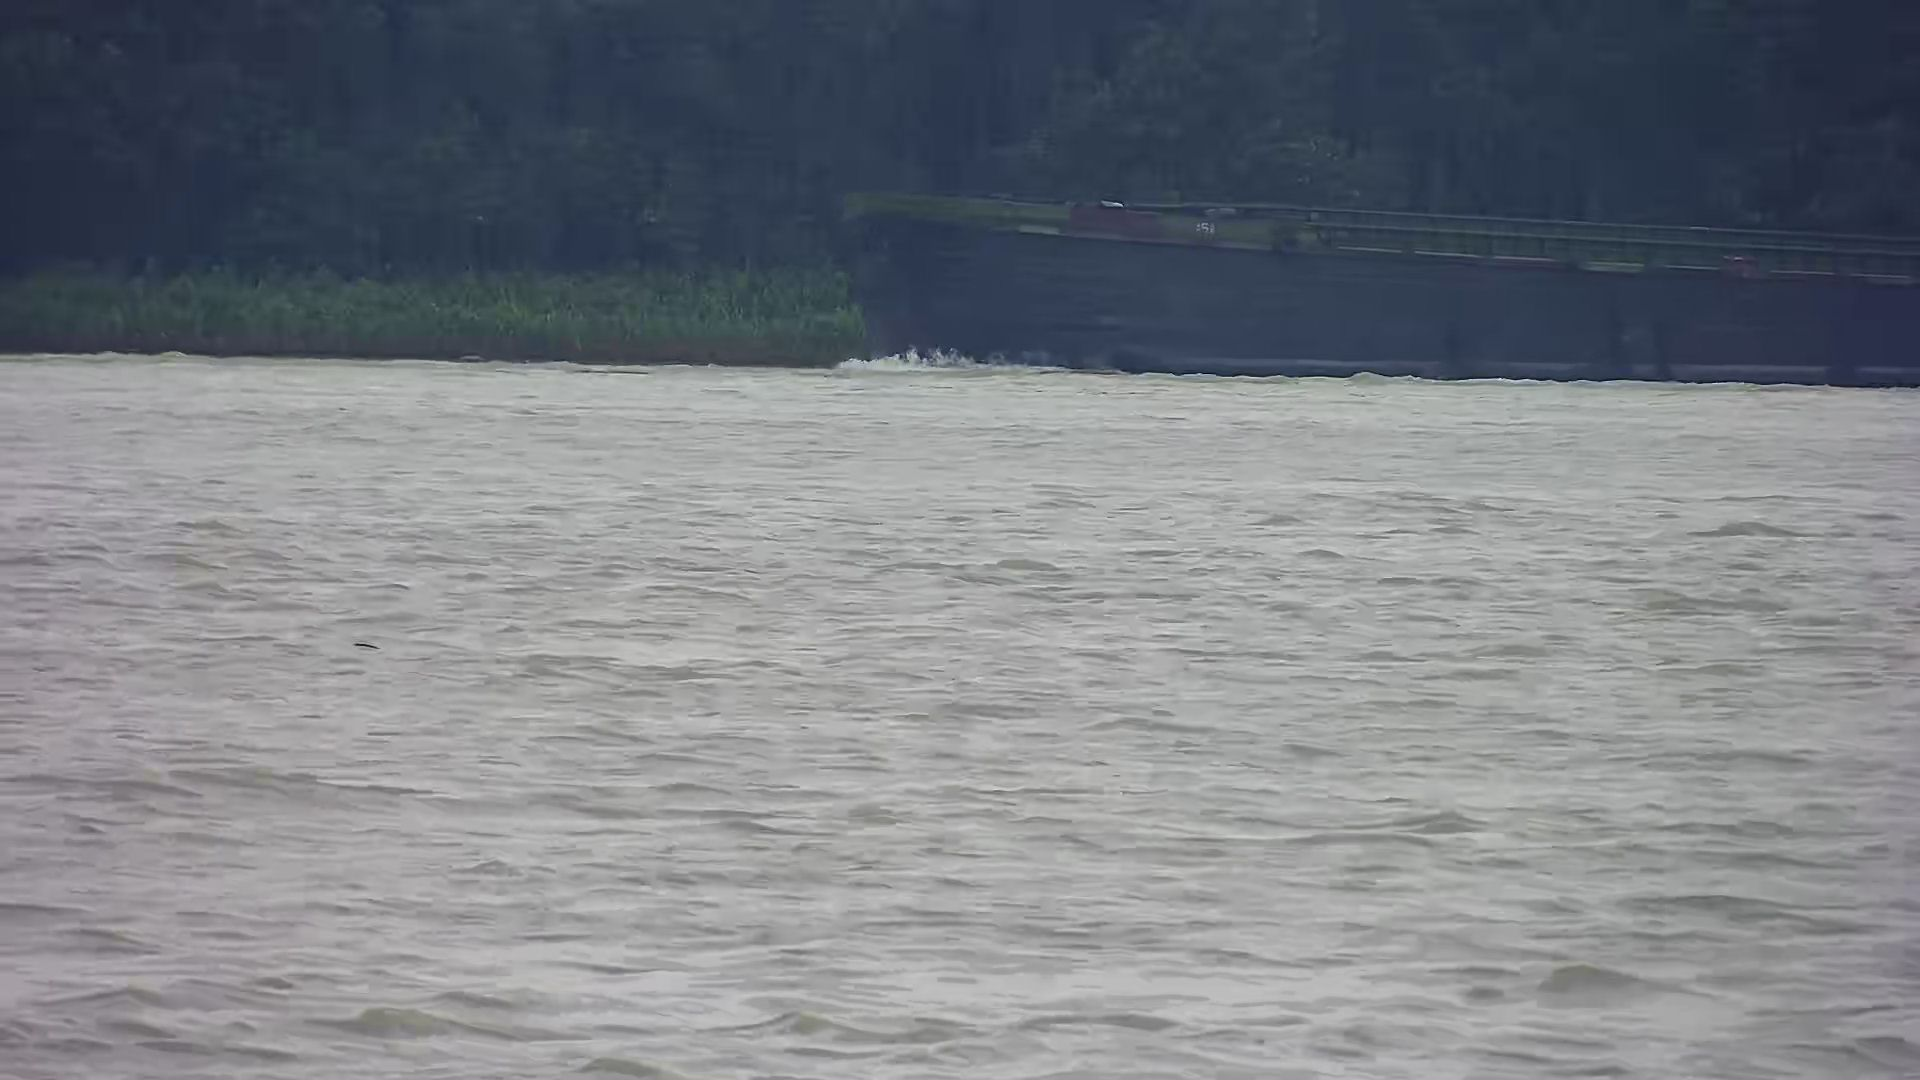ship: (812, 173, 1920, 401)
